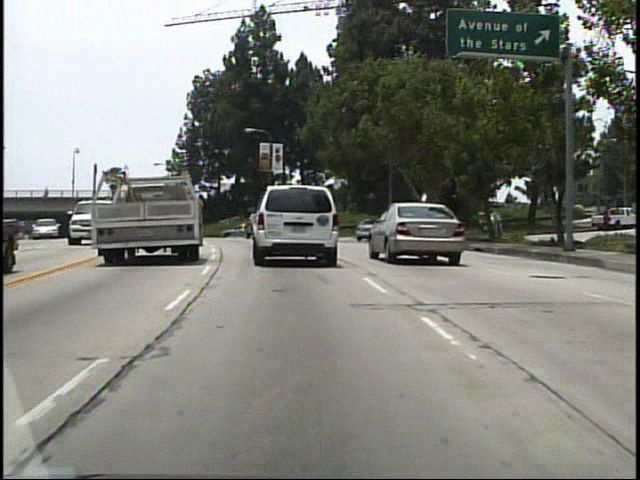person: (40, 183, 51, 203)
